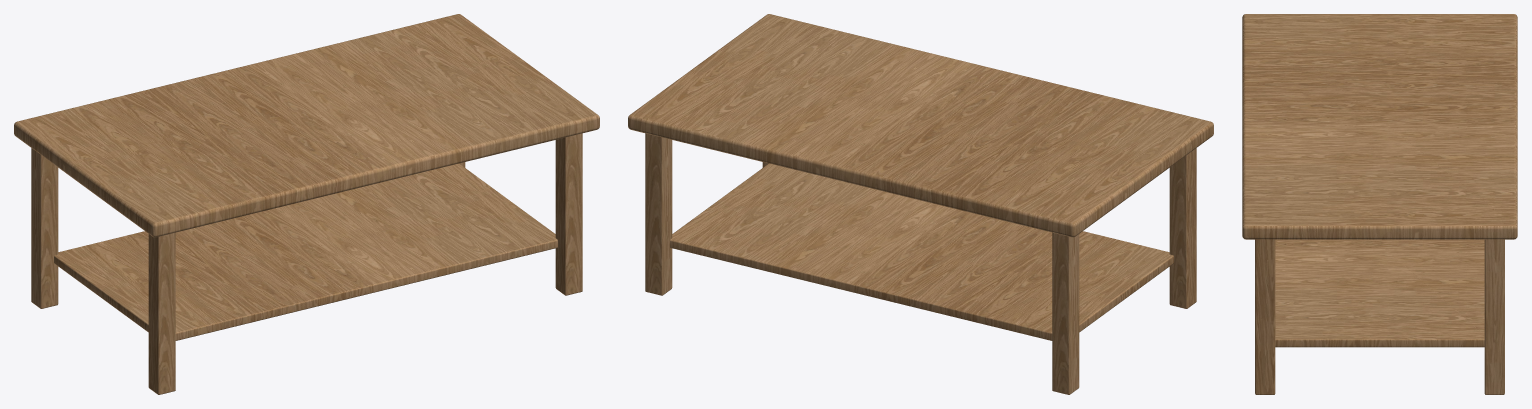
File: ap_coffee_table.glb
3 views of the same model, side by side, from view 1: azimuth 30°, elevation 25°; view 2: azimuth 150°, elevation 25°; view 3: azimuth 270°, elevation 25° (orthographic). The views are drawn at different scales.
Parts seen in each view (by area): view 1: ap_coffee_table; view 2: ap_coffee_table; view 3: ap_coffee_table.
Boxes of the visible parts, x1=… form: ap_coffee_table: x1=14, y1=14, x2=599, y2=394; ap_coffee_table: x1=628, y1=14, x2=1213, y2=394; ap_coffee_table: x1=1242, y1=14, x2=1517, y2=394.
Bounding box in the file's own units: 1.1 × 0.42 × 0.6.
1 material, 1 textured.
